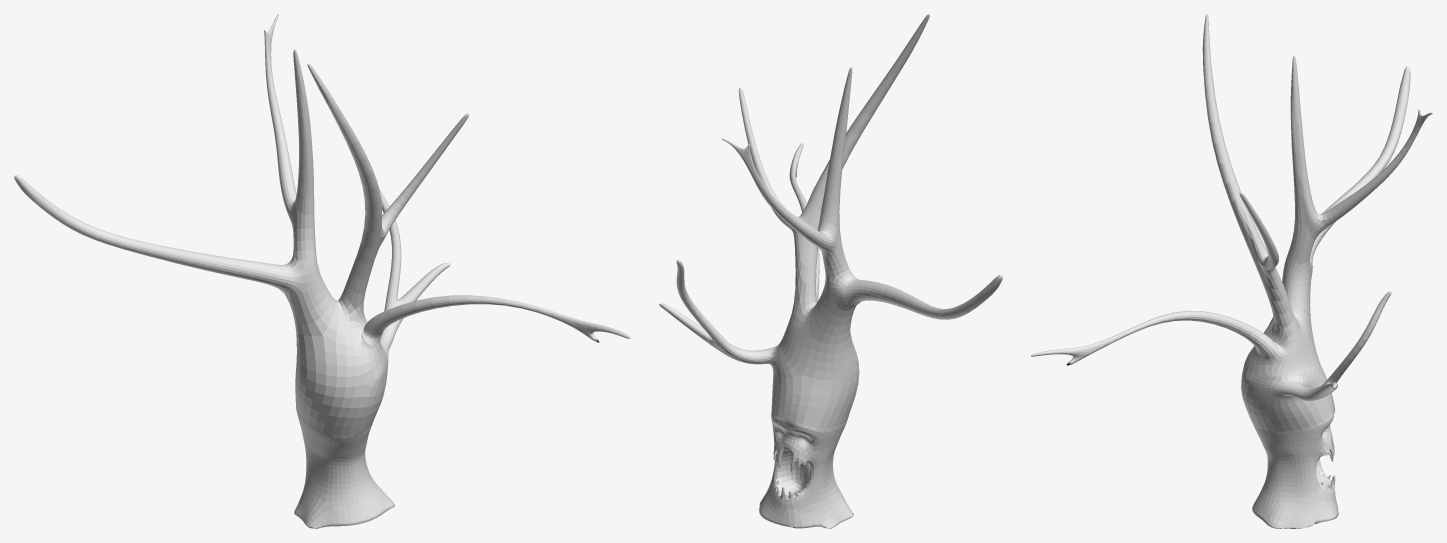
The model's file is FBX_ScaryTree.fbx.
3 views of the same model, side by side, from view 1: azimuth 30°, elevation 25°; view 2: azimuth 150°, elevation 25°; view 3: azimuth 270°, elevation 25° (orthographic). The views are drawn at different scales.
Parts seen in each view (by area): view 1: tree1; view 2: tree1; view 3: tree1.
Part boxes in pixels (box(x1,y1,x2,y2)): tree1: box(14, 14, 630, 528); tree1: box(659, 14, 1002, 528); tree1: box(1031, 14, 1432, 528).
Size of the model in its own units: 1335 by 1555 by 1222.
